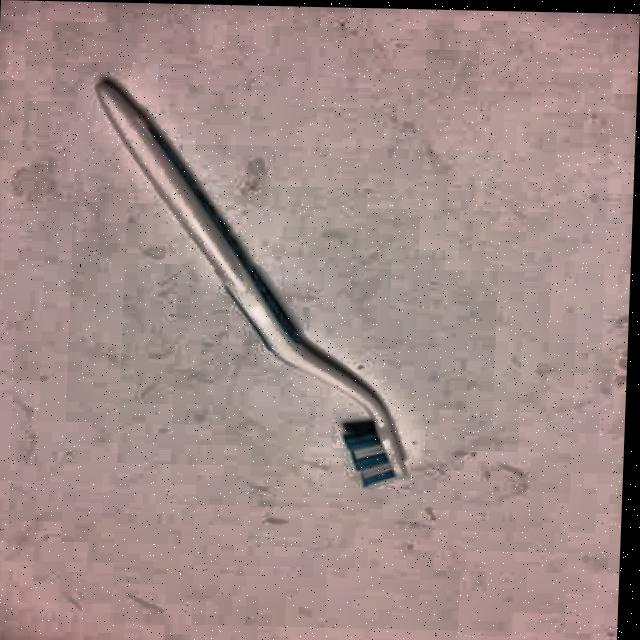trash: (66, 77, 456, 495)
